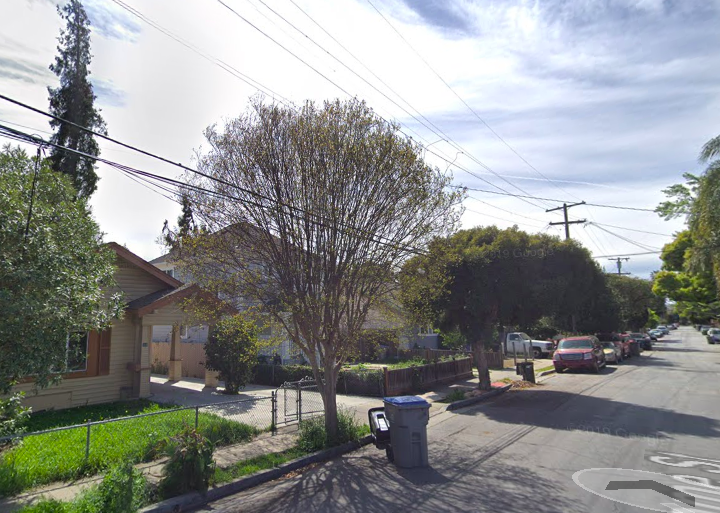tree: (154, 87, 471, 440)
